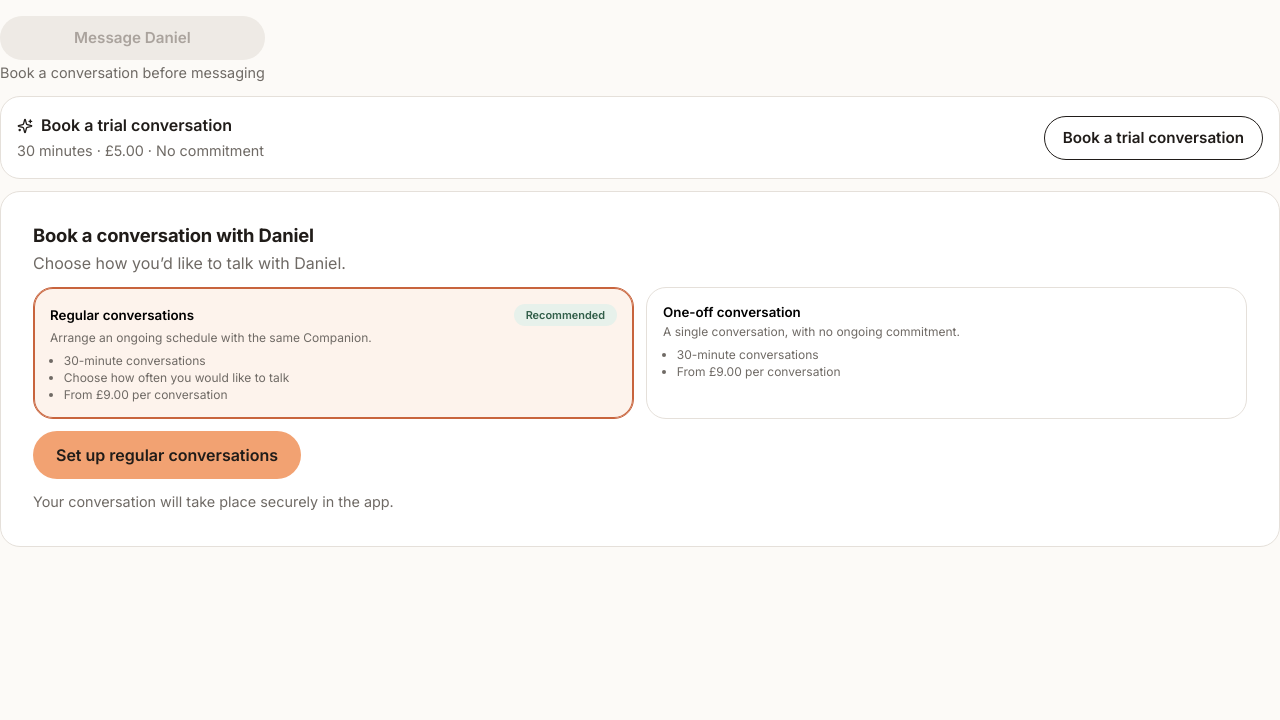
Test: shared Regular / One-off booking selector › 4a. choosing Regular opens the existing recurring PlanWizard (not the one-off flow)
Click the button "Set up regular conversations" at (167,455), box [33,431,301,479]
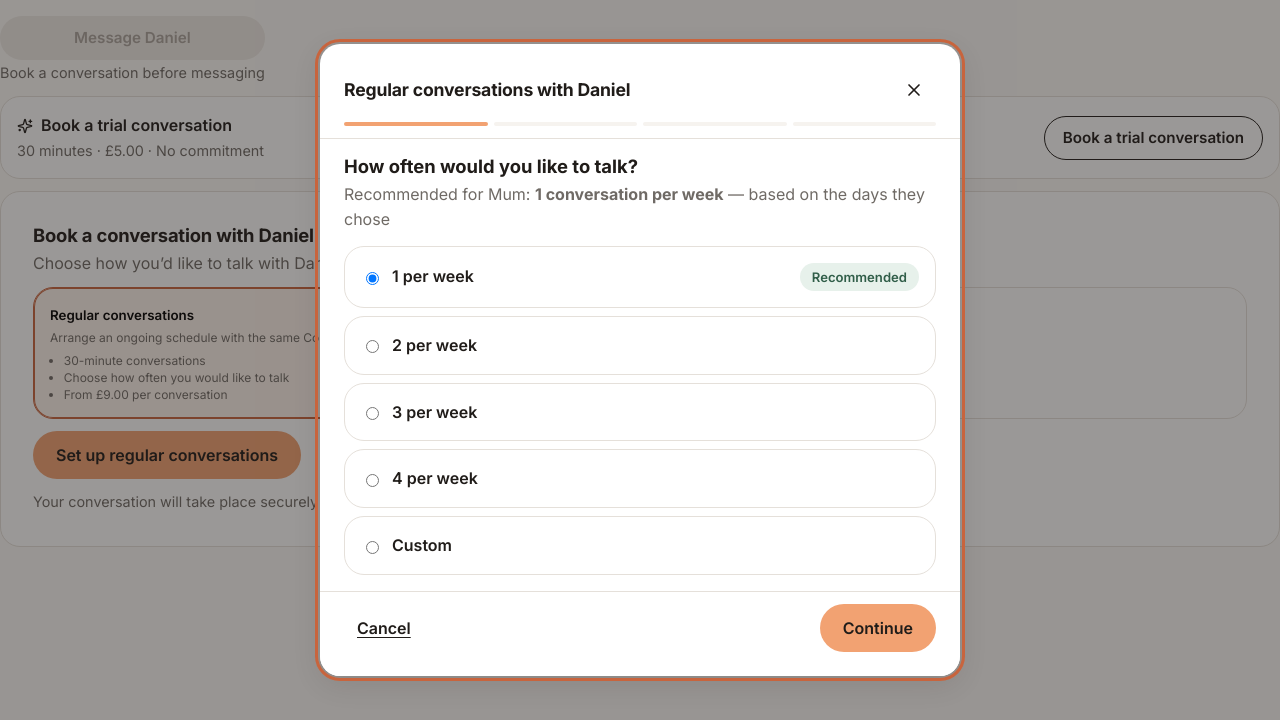
expect the heading "How often would you like to talk?" is shown: met, box [344,155,638,177]
